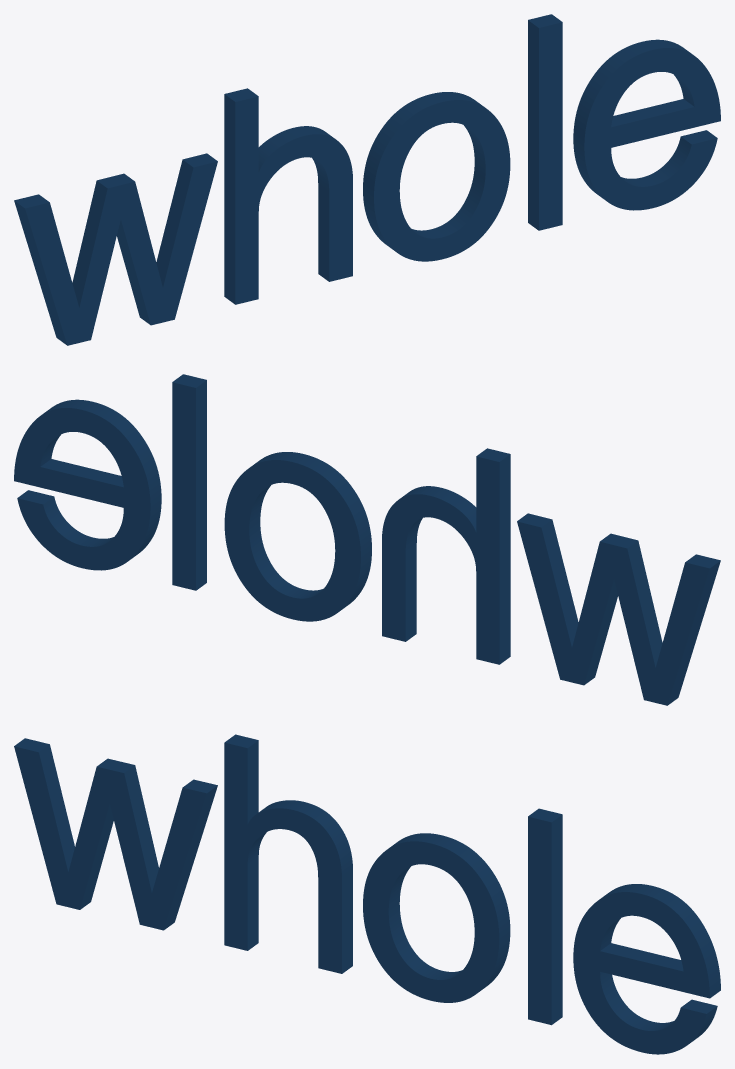
File: whole.gltf
3 renders of one model, top to bottom at view 1: azimuth 30°, elevation 25°; view 2: azimuth 150°, elevation 25°; view 3: azimuth 330°, elevation 25°, orthographic.
Size of the model in its own units: 3.64 by 1.04 by 0.1.
